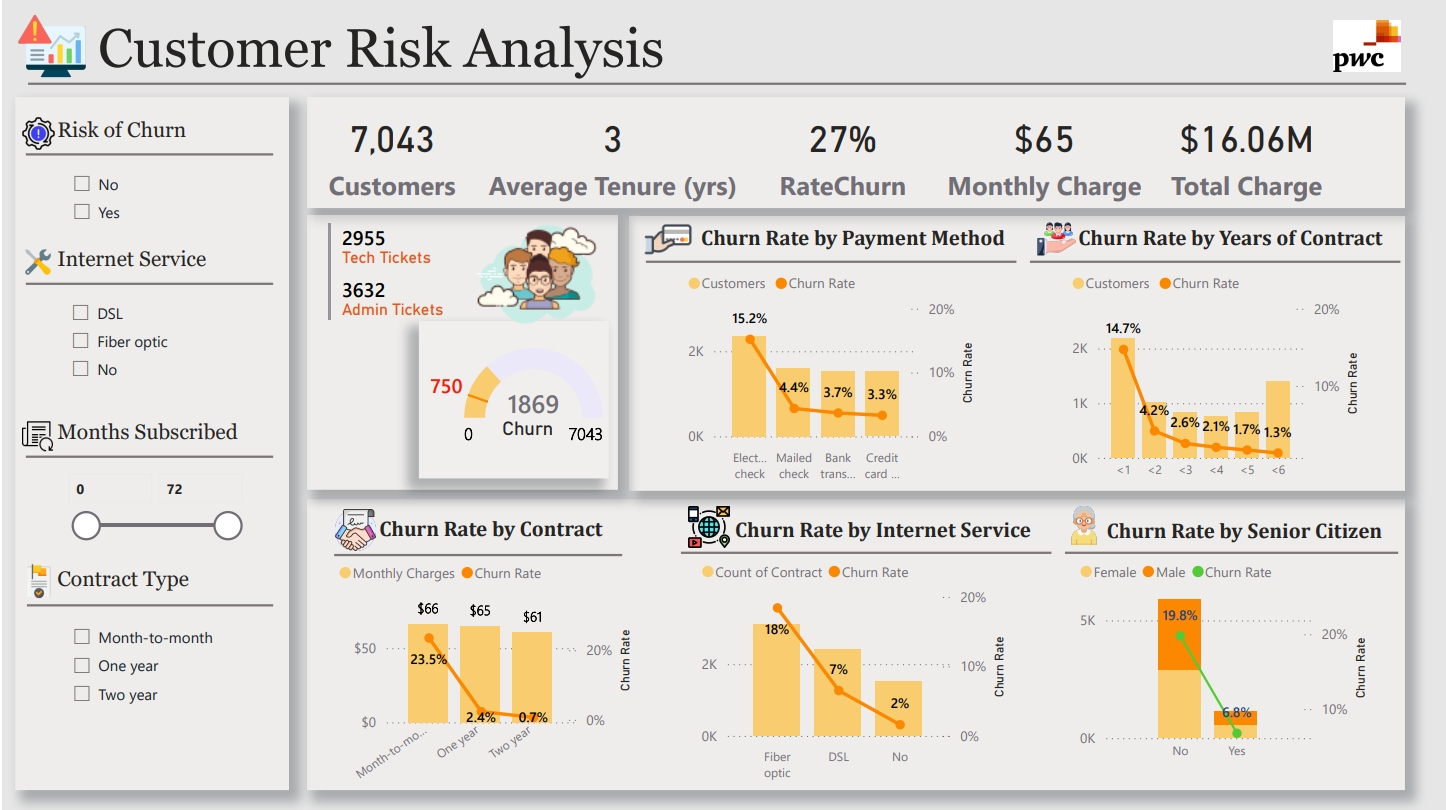

The page's visual inventory and layout, read from the dashboard file:
{"tool":"powerbi","page":{"name":"CustomerRiskAnalysis","canvas":[1280,720],"ordinal":1},"visuals":[{"type":"textbox","box":[80.4,10.4,1171.7,75.3],"z":0},{"type":"image","box":[1174.1,4.4,68.7,72.1],"z":1000},{"type":"shape","box":[23.3,63.2,1219.6,22.2],"z":2000},{"type":"shape","box":[11.7,86.4,242.8,612.9],"z":3000},{"type":"shape","box":[269.7,86.4,972.4,98.1],"z":4000},{"type":"shape","box":[269.7,442.4,972.4,256.8],"z":5000},{"type":"shape","box":[555.3,191,686.5,242.7],"z":6000},{"type":"card","fields":{"Values":["Caculation.RateChurn"]},"box":[660.4,86.1,169,98.5],"z":7000},{"type":"slicer","fields":{"Values":["ChurnDataset.Churn"]},"box":[51.4,144.8,157.6,64.2],"z":8000},{"type":"card","fields":{"Values":["Avg(ChurnDataset.tenure(years))"]},"box":[421.9,86.1,238.5,98.5],"z":9000},{"type":"card","fields":{"Values":["CountNonNull(ChurnDataset.customerID)"]},"box":[269.5,85,152.4,99.5],"z":10000},{"type":"card","fields":{"Values":["Avg(ChurnDataset.MonthlyCharges)"]},"box":[829.4,86.1,187.7,98.5],"z":11000},{"type":"card","fields":{"Values":["Sum(ChurnDataset.TotalCharges)"]},"box":[1007.9,86.1,187.7,98.5],"z":12000},{"type":"lineStackedColumnComboChart","fields":{"Y":["CountNonNull(ChurnDataset.customerID)"],"Category":["ChurnDataset.PaymentMethod"],"Y2":["Sum(ChurnDataset.RateChurnColumn)"]},"box":[602,231.5,263.4,202.2],"z":13000},{"type":"textbox","box":[613.9,191.8,295.5,39.4],"z":14000},{"type":"shape","box":[569.9,223.2,327.7,16.6],"z":15000},{"type":"image","box":[562,184.6,55,52.9],"z":16000},{"type":"lineStackedColumnComboChart","fields":{"Y":["CountNonNull(ChurnDataset.customerID)"],"Y2":["Sum(ChurnDataset.RateChurnColumn)"],"Category":["ChurnDataset.<tenure(years)"]},"box":[942.1,231.5,263.4,202.2],"z":17000},{"type":"shape","box":[910.2,223.1,327.7,16.6],"z":18000},{"type":"lineStackedColumnComboChart","fields":{"Y2":["Sum(ChurnDataset.RateChurnColumn)"],"Y":["CountNonNull(ChurnDataset.customerID)"],"Series":["ChurnDataset.gender"],"Category":["ChurnDataset.SeniorCitizenText"]},"box":[948.8,486.3,264.4,196],"z":19000},{"type":"lineStackedColumnComboChart","fields":{"Y2":["Sum(ChurnDataset.RateChurnColumn)"],"Y":["Avg(ChurnDataset.MonthlyCharges)"],"Category":["ChurnDataset.Contract"]},"box":[293.5,487.4,268.6,212.6],"z":20000},{"type":"lineClusteredColumnComboChart","fields":{"Category":["ChurnDataset.InternetService"],"Y2":["Sum(ChurnDataset.RateChurnColumn)"],"Y":["CountNonNull(ChurnDataset.Contract)"]},"box":[613.9,486.3,278.9,212.6],"z":21000},{"type":"textbox","box":[972.7,451.1,300.7,38.4],"z":22000},{"type":"shape","box":[293.5,483,255.7,16.3],"z":23000},{"type":"shape","box":[601,480.9,327.7,16.6],"z":24000},{"type":"shape","box":[941,481,295.3,16.3],"z":25000},{"type":"textbox","box":[948.4,192.1,293.5,39.4],"z":26000},{"type":"textbox","box":[328.7,449,301.8,39.4],"z":27000},{"type":"textbox","box":[643.9,450,293.5,39.4],"z":28000},{"type":"shape","box":[269.7,190.3,275.5,242.8],"z":29000},{"type":"multiRowCard","fields":{"Values":["Sum(ChurnDataset.numTechTickets)","Sum(ChurnDataset.numAdminTickets)"]},"box":[283.7,192.6,124.9,103.9],"z":30000},{"type":"gauge","fields":{"Y":["ChurnDataset.# of churn"],"MaxValue":["CountNonNull(ChurnDataset.customerID)"]},"box":[368.9,283.7,168.1,138.9],"z":31000},{"type":"textbox","box":[44.4,95.7,164.6,49],"z":32000},{"type":"shape","box":[21,128.4,219.5,16.3],"z":33000},{"type":"slicer","fields":{"Values":["ChurnDataset.InternetService"]},"box":[50.2,259.2,157.6,89.9],"z":34000},{"type":"textbox","box":[44.4,210.1,172.8,49],"z":35000},{"type":"shape","box":[21,242.8,219.5,16.3],"z":36000},{"type":"slicer","fields":{"Values":["ChurnDataset.tenure"]},"box":[45.5,408.6,175.1,80.5],"z":37000},{"type":"textbox","box":[44.4,363.1,180.9,49],"z":38000},{"type":"shape","box":[21,395.7,219.5,16.3],"z":39000},{"type":"slicer","fields":{"Values":["ChurnDataset.Contract"]},"box":[51.4,546.3,157.6,106.2],"z":40000},{"type":"textbox","box":[44.4,492.6,164.6,49],"z":41000},{"type":"shape","box":[22.2,528.8,218.3,12.8],"z":42000},{"type":"textbox","box":[437.8,359.5,65.4,49],"z":43000},{"type":"image","box":[11.7,366.6,38.5,37.4],"z":44000},{"type":"image","box":[11.7,210.1,39.7,43.2],"z":45000},{"type":"image","box":[13,98,38,39],"z":46000},{"type":"image","box":[9,493,46,43],"z":47000},{"type":"image","box":[407.5,177.3,133.8,134.8],"z":48000},{"type":"image","box":[909.4,188.7,47.7,45.6],"z":49000},{"type":"image","box":[601.4,442.8,48.7,46.7],"z":50000},{"type":"image","box":[934.3,442.8,46.7,44.6],"z":51000},{"type":"image","box":[289.3,445.9,47.7,45.6],"z":52000},{"type":"image","box":[9.3,5.2,70.5,70.5],"z":53000}]}

Visuals, with their boxes in screenshot pixels (x1, y1, x2, y2), scaled from the page's 1280x720 canvas onto the 1446x810 screenshot:
textbox: x1=91 y1=12 x2=1414 y2=96
image: x1=1326 y1=5 x2=1404 y2=86
shape: x1=26 y1=71 x2=1404 y2=96
shape: x1=13 y1=97 x2=288 y2=787
shape: x1=305 y1=97 x2=1403 y2=208
shape: x1=305 y1=498 x2=1403 y2=787
shape: x1=627 y1=215 x2=1403 y2=488
card - Caculation.RateChurn: x1=746 y1=97 x2=937 y2=208
slicer - ChurnDataset.Churn: x1=58 y1=163 x2=236 y2=235
card - Avg(ChurnDataset.tenure(years)): x1=477 y1=97 x2=746 y2=208
card - CountNonNull(ChurnDataset.customerID): x1=304 y1=96 x2=477 y2=208
card - Avg(ChurnDataset.MonthlyCharges): x1=937 y1=97 x2=1149 y2=208
card - Sum(ChurnDataset.TotalCharges): x1=1139 y1=97 x2=1351 y2=208
lineStackedColumnComboChart - CountNonNull(ChurnDataset.customerID) x ChurnDataset.PaymentMethod: x1=680 y1=260 x2=978 y2=488
textbox: x1=694 y1=216 x2=1027 y2=260
shape: x1=644 y1=251 x2=1014 y2=270
image: x1=635 y1=208 x2=697 y2=267
lineStackedColumnComboChart - CountNonNull(ChurnDataset.customerID) x Sum(ChurnDataset.RateChurnColumn): x1=1064 y1=260 x2=1362 y2=488
shape: x1=1028 y1=251 x2=1398 y2=270
lineStackedColumnComboChart - Sum(ChurnDataset.RateChurnColumn) x CountNonNull(ChurnDataset.customerID): x1=1072 y1=547 x2=1371 y2=768
lineStackedColumnComboChart - Sum(ChurnDataset.RateChurnColumn) x Avg(ChurnDataset.MonthlyCharges): x1=332 y1=548 x2=635 y2=788
lineClusteredColumnComboChart - ChurnDataset.InternetService x Sum(ChurnDataset.RateChurnColumn): x1=694 y1=547 x2=1009 y2=786
textbox: x1=1099 y1=507 x2=1439 y2=551
shape: x1=332 y1=543 x2=620 y2=562
shape: x1=679 y1=541 x2=1049 y2=560
shape: x1=1063 y1=541 x2=1397 y2=559
textbox: x1=1071 y1=216 x2=1403 y2=260
textbox: x1=371 y1=505 x2=712 y2=549
textbox: x1=727 y1=506 x2=1059 y2=551
shape: x1=305 y1=214 x2=616 y2=487
multiRowCard - Sum(ChurnDataset.numTechTickets) x Sum(ChurnDataset.numAdminTickets): x1=320 y1=217 x2=462 y2=334
gauge - ChurnDataset.# of churn x CountNonNull(ChurnDataset.customerID): x1=417 y1=319 x2=607 y2=475
textbox: x1=50 y1=108 x2=236 y2=163
shape: x1=24 y1=144 x2=272 y2=163
slicer - ChurnDataset.InternetService: x1=57 y1=292 x2=235 y2=393
textbox: x1=50 y1=236 x2=245 y2=291
shape: x1=24 y1=273 x2=272 y2=291
slicer - ChurnDataset.tenure: x1=51 y1=460 x2=249 y2=550
textbox: x1=50 y1=408 x2=255 y2=464
shape: x1=24 y1=445 x2=272 y2=464
slicer - ChurnDataset.Contract: x1=58 y1=615 x2=236 y2=734
textbox: x1=50 y1=554 x2=236 y2=609
shape: x1=25 y1=595 x2=272 y2=609
textbox: x1=495 y1=404 x2=568 y2=460
image: x1=13 y1=412 x2=57 y2=454
image: x1=13 y1=236 x2=58 y2=285
image: x1=15 y1=110 x2=58 y2=154
image: x1=10 y1=555 x2=62 y2=603
image: x1=460 y1=199 x2=611 y2=351
image: x1=1027 y1=212 x2=1081 y2=264
image: x1=679 y1=498 x2=734 y2=551
image: x1=1055 y1=498 x2=1108 y2=548
image: x1=327 y1=502 x2=381 y2=553
image: x1=11 y1=6 x2=90 y2=85
